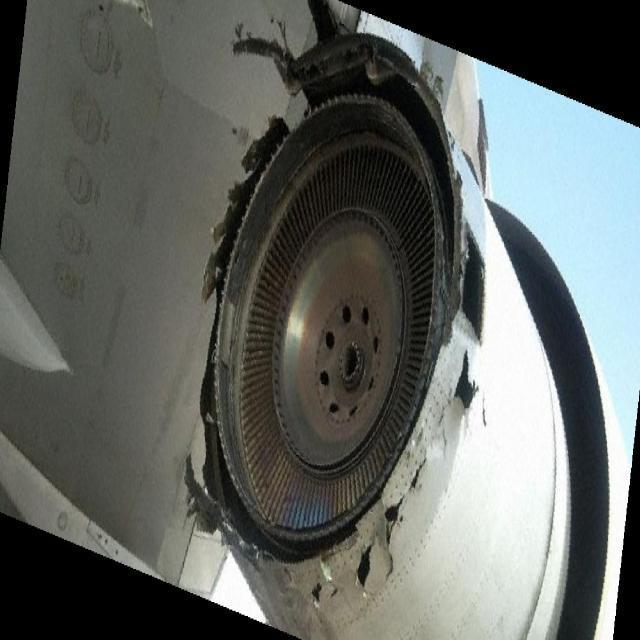crack: (312, 341, 492, 606)
